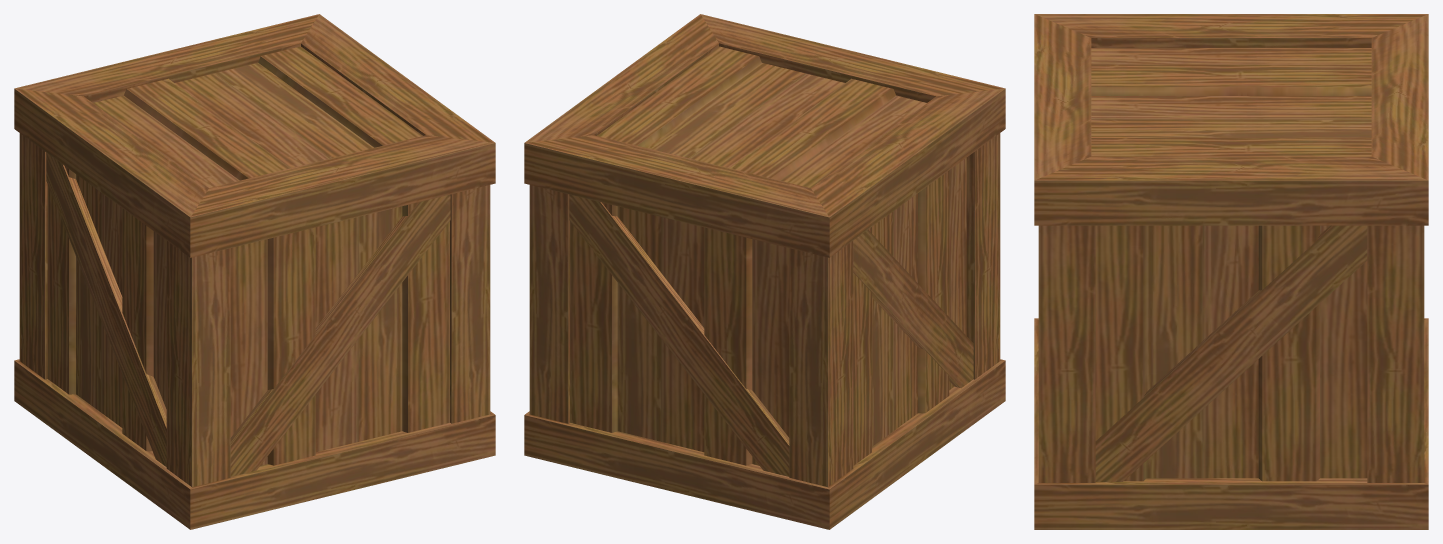
Rendered from Prop_Crate.glb.
3 renders of one model, left to right at view 1: azimuth 30°, elevation 25°; view 2: azimuth 150°, elevation 25°; view 3: azimuth 270°, elevation 25°, orthographic. The views are drawn at different scales.
Parts seen in each view (by area): view 1: Prop_Crate; view 2: Prop_Crate; view 3: Prop_Crate.
Boxes of the visible parts, <box> form: Prop_Crate: <box>14,14,495,529</box>; Prop_Crate: <box>524,14,1005,529</box>; Prop_Crate: <box>1034,14,1428,529</box>.
Size of the model in its own units: 1.08 by 1.06 by 1.08.
Materials: 1 (1 with a texture image).
